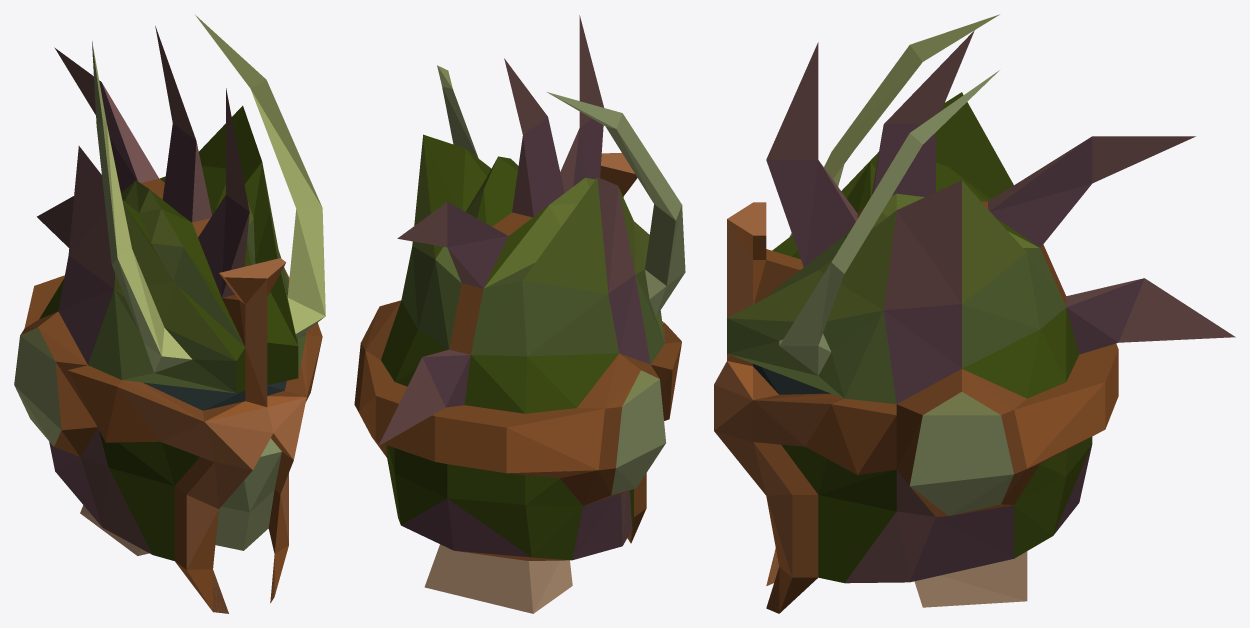
3 views of the same model, side by side, from view 1: azimuth 30°, elevation 25°; view 2: azimuth 150°, elevation 25°; view 3: azimuth 270°, elevation 25° (orthographic). The views are drawn at different scales.
Size of the model in its own units: 24 by 48 by 40.
